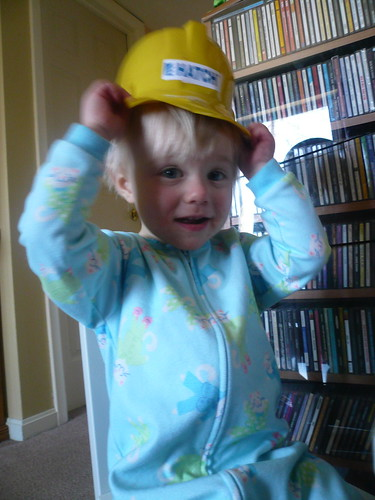person hardhat: (27, 28, 350, 496)
